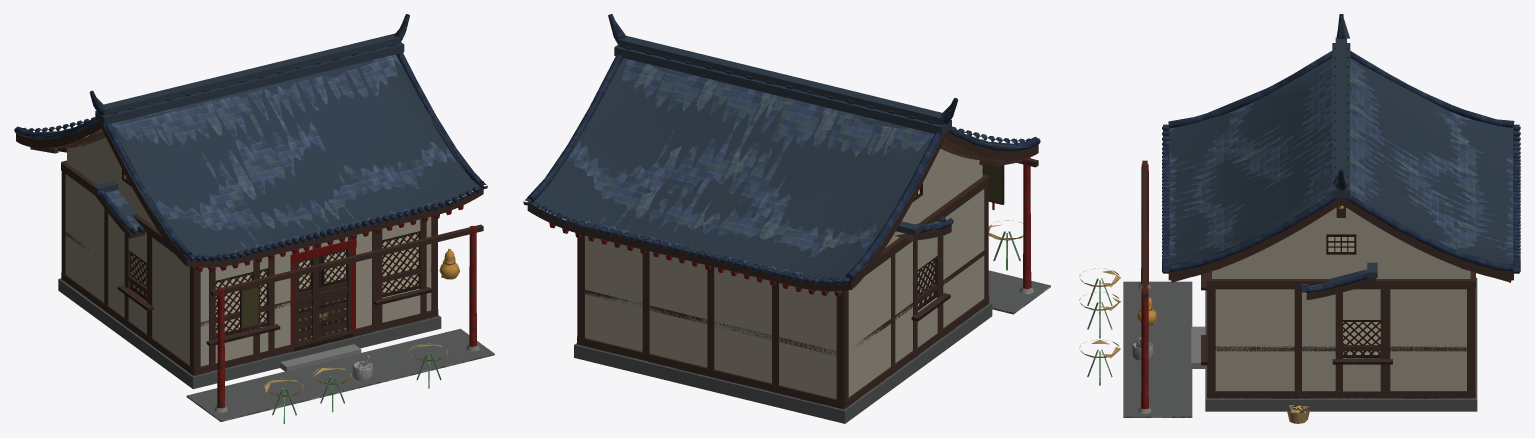
Rendered from prop_herbalist.gltf.
3 renders of one model, left to right at view 1: azimuth 30°, elevation 25°; view 2: azimuth 150°, elevation 25°; view 3: azimuth 270°, elevation 25°, orthographic. The views are drawn at different scales.
Parts seen in each view (by area): view 1: Far, Near; view 2: Far, Near; view 3: Far, Near.
Boxes of the visible parts, left/top/right/bottom form: Far: left=16, top=19, right=494, bottom=420; Near: left=14, top=14, right=494, bottom=423; Far: left=527, top=21, right=1050, bottom=423; Near: left=523, top=14, right=1050, bottom=409; Far: left=1091, top=18, right=1513, bottom=416; Near: left=1079, top=14, right=1520, bottom=423.
Bounding box in the file's own units: 8.65 × 6.63 × 10.22.
21 materials, 15 textured.
